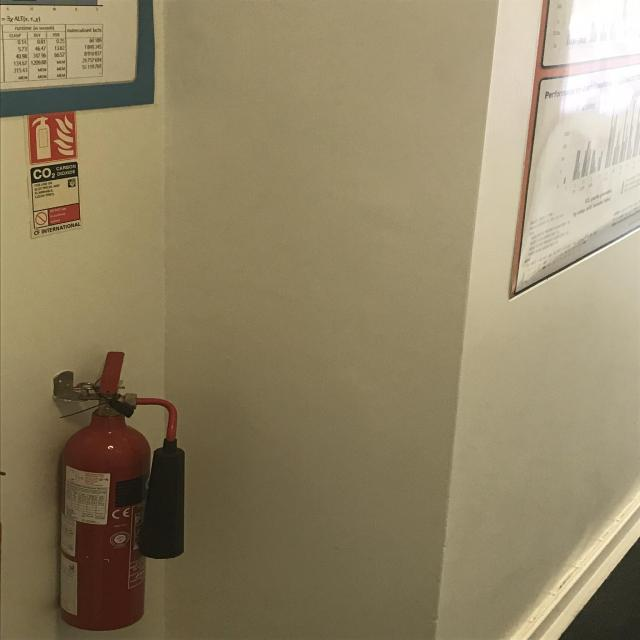fire_extinguisher: (50, 347, 192, 632)
